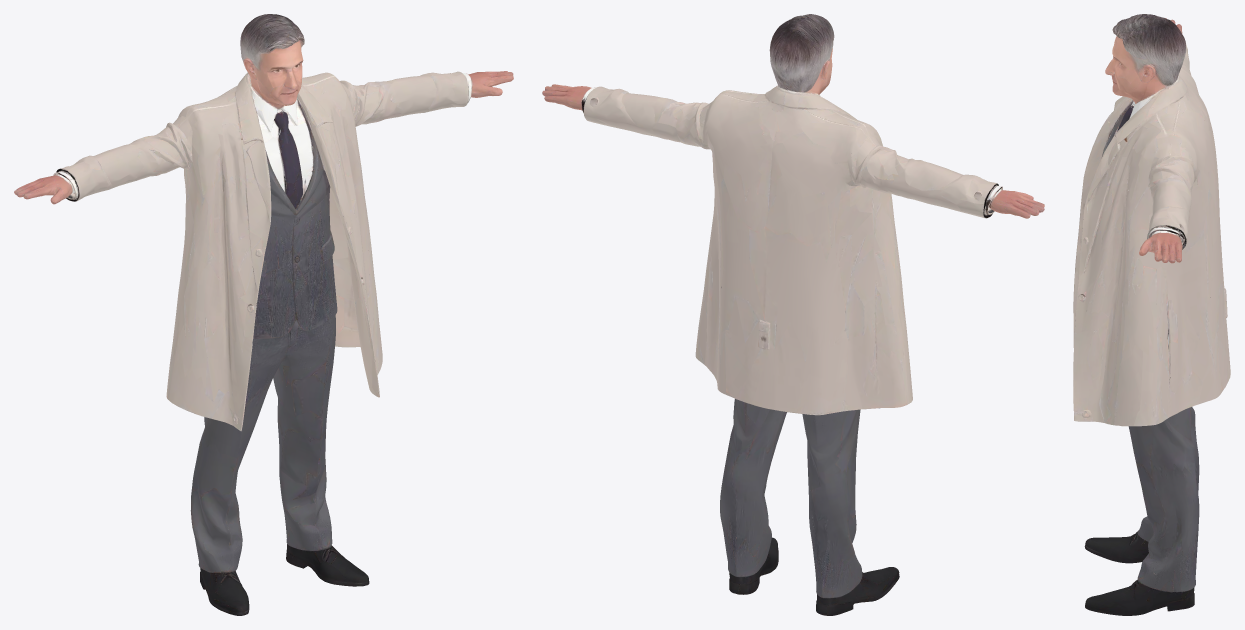
File: ped_suit_rigin.glb
The picture shows the model from 3 angles, left to right: view 1: azimuth 30°, elevation 25°; view 2: azimuth 150°, elevation 25°; view 3: azimuth 270°, elevation 25°; orthographic projection.
Visible parts, largest first — view 1: Mesh_0; view 2: Mesh_0; view 3: Mesh_0.
Boxes of the visible parts, bbox=[...] form: Mesh_0: bbox=[14, 14, 513, 615]; Mesh_0: bbox=[542, 14, 1044, 615]; Mesh_0: bbox=[1073, 14, 1230, 615].
Bounding box in the file's own units: 1.74 × 1.9 × 0.4796.
1 material, 1 textured.
